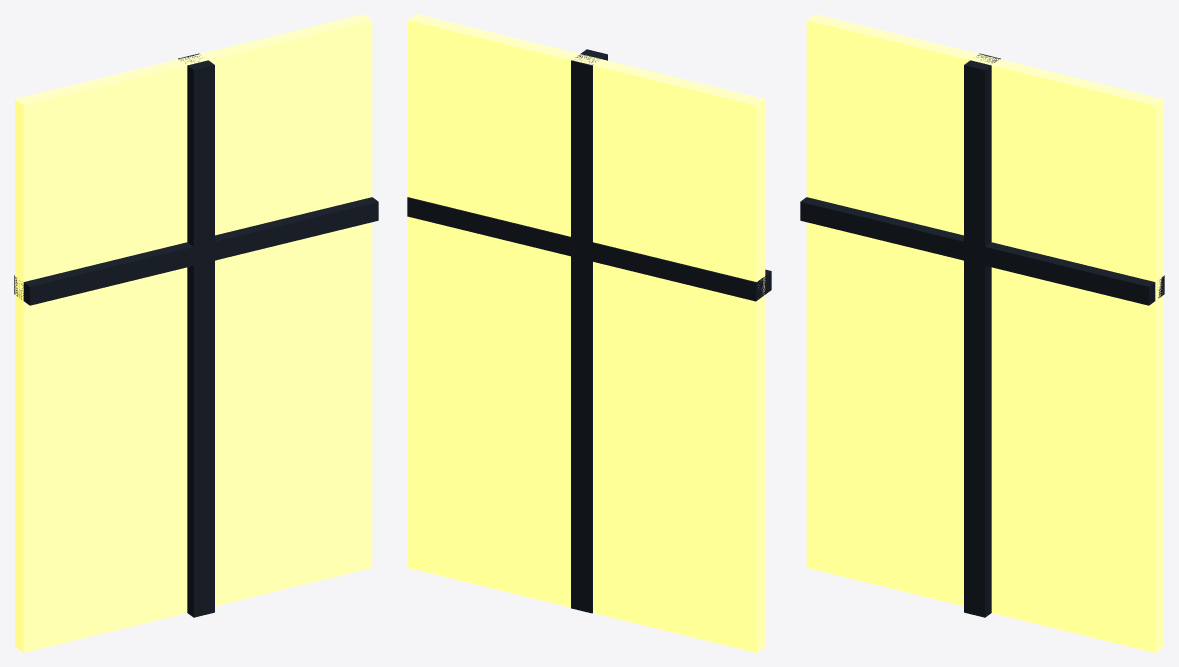
File: pane_window.glb
3 renders of one model, left to right at view 1: azimuth 30°, elevation 25°; view 2: azimuth 150°, elevation 25°; view 3: azimuth 330°, elevation 25°, orthographic.
Visible parts, largest first — view 1: pane_window; view 2: pane_window; view 3: pane_window.
Part boxes in pixels (bbox=[...]): pane_window: bbox=[14, 14, 378, 652]; pane_window: bbox=[407, 14, 771, 652]; pane_window: bbox=[800, 14, 1164, 652].
Bounding box in the file's own units: 1.4 × 2.1 × 0.11.
